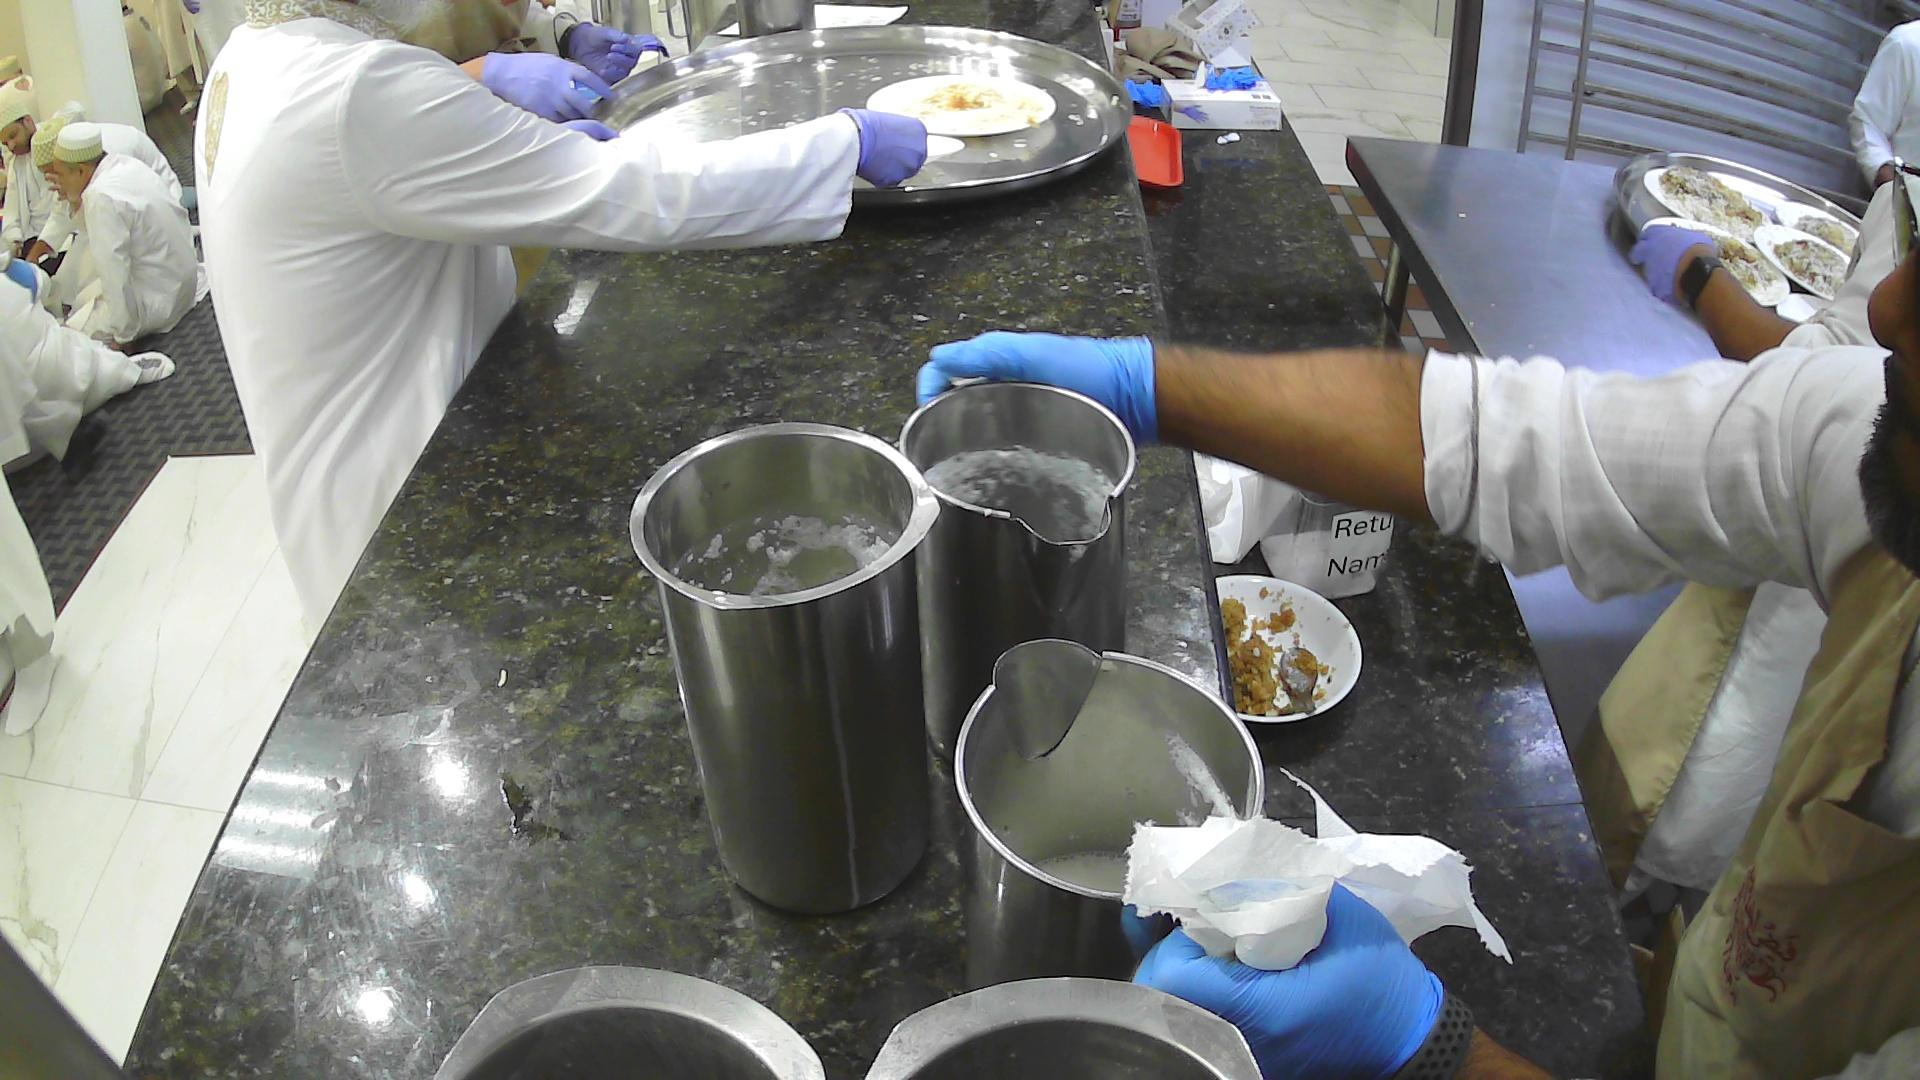thaal: (574, 24, 1133, 208), (1611, 150, 1865, 328)
